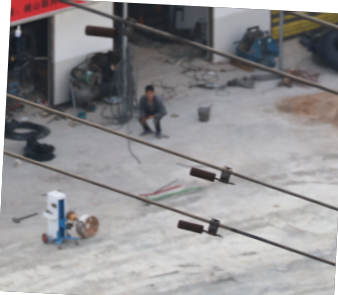damper_defect: (82, 15, 147, 43), (187, 161, 240, 188), (175, 213, 227, 239)
